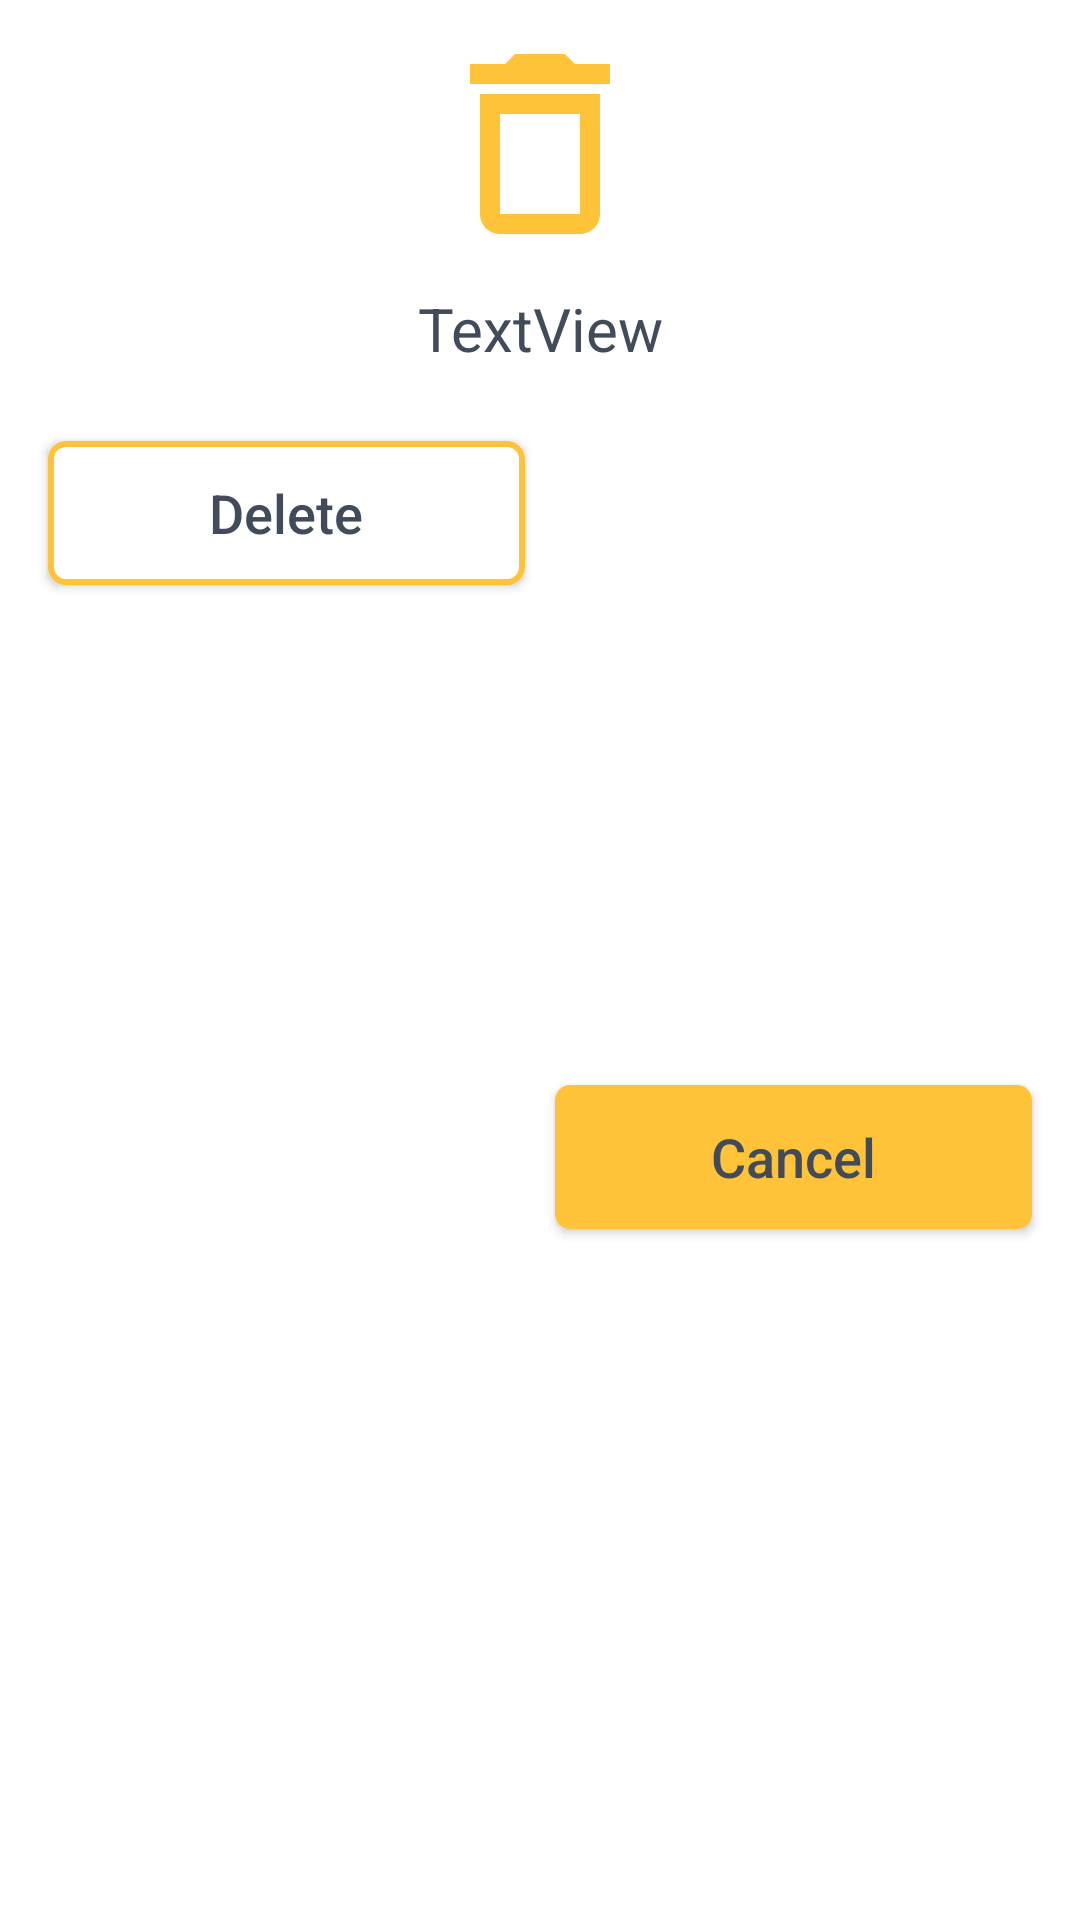

Screen size 1080px x 1920px. Icon name, then its center in pixels as [x,y]:
delete: [540,144]
